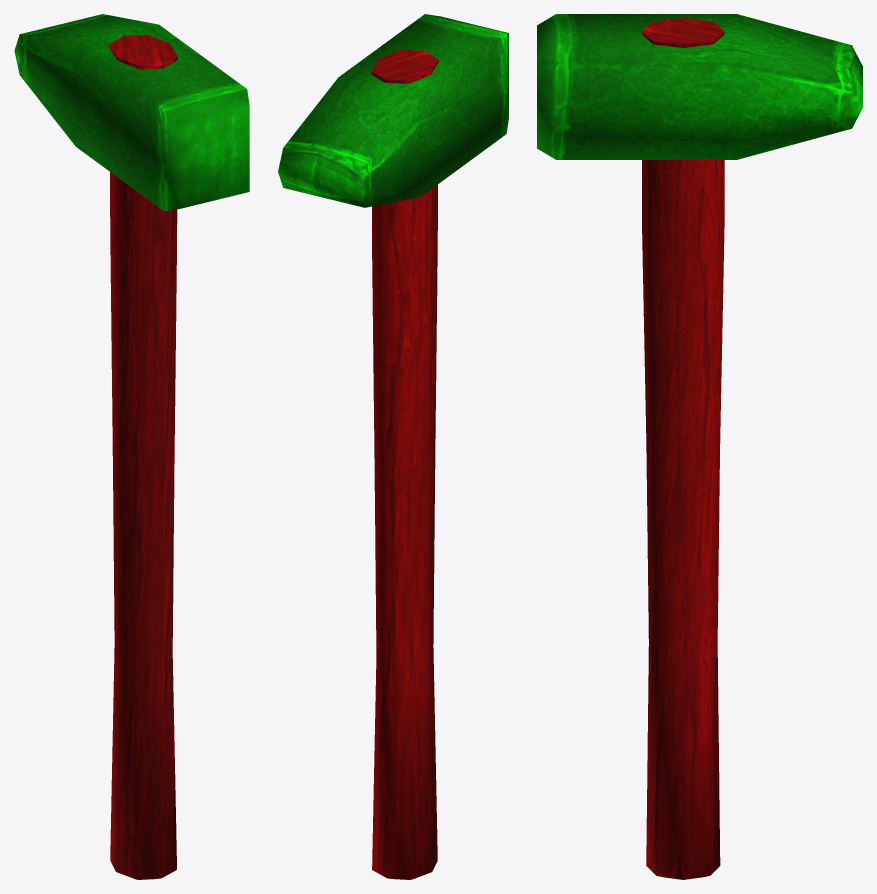
Rendered from Hammer01.fbx.
3 renders of one model, left to right at view 1: azimuth 30°, elevation 25°; view 2: azimuth 150°, elevation 25°; view 3: azimuth 270°, elevation 25°, orthographic. The views are drawn at different scales.
Parts seen in each view (by area): view 1: Hammer01_LOD0; view 2: Hammer01_LOD0; view 3: Hammer01_LOD0.
Boxes of the visible parts, bbox=[...] form: Hammer01_LOD0: bbox=[14, 14, 249, 879]; Hammer01_LOD0: bbox=[278, 14, 508, 879]; Hammer01_LOD0: bbox=[537, 14, 862, 879].
Size of what is drawn, in the model's own units: 0.0481 by 0.4545 by 0.1594.
